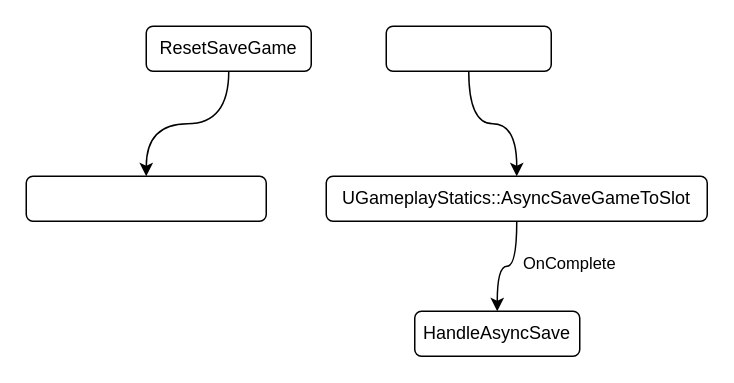
The diagram is 734 pixels wide and 383 high, and some of its shapes have lost their labels. The shapes that lost their labels are listed below. From the top down, each one's centre as x and y in pixels, then its label:
the point at 468,48: WriteSaveGame
the point at 145,198: HandleSaveGameLoaded
